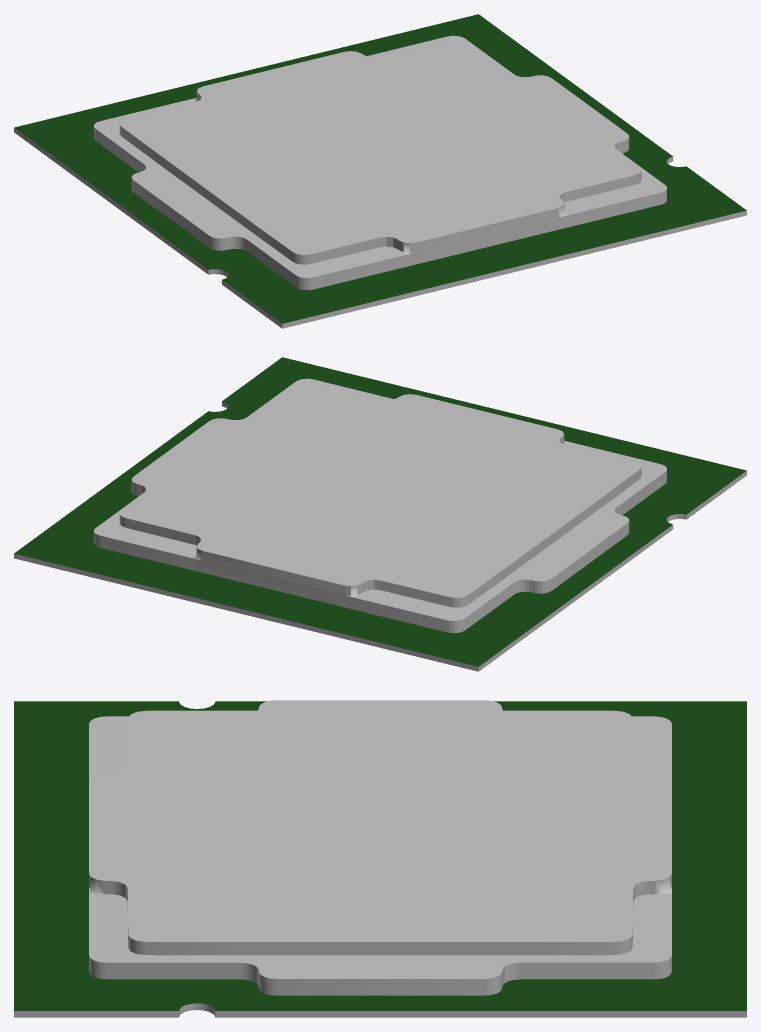
File: CPU I5-10400F LGA1200.fbx
3 views of the same model, one above another, from view 1: azimuth 30°, elevation 25°; view 2: azimuth 150°, elevation 25°; view 3: azimuth 270°, elevation 25° (orthographic). The views are drawn at different scales.
Visible parts, largest first — view 1: Cube.002; view 2: Cube.002; view 3: Cube.002.
Part boxes in pixels (x1,y1,x2,y2): Cube.002: (14,14,746,328); Cube.002: (14,357,746,671); Cube.002: (14,700,746,1017).
Bounding box in the file's own units: 10 × 0.55 × 10.
